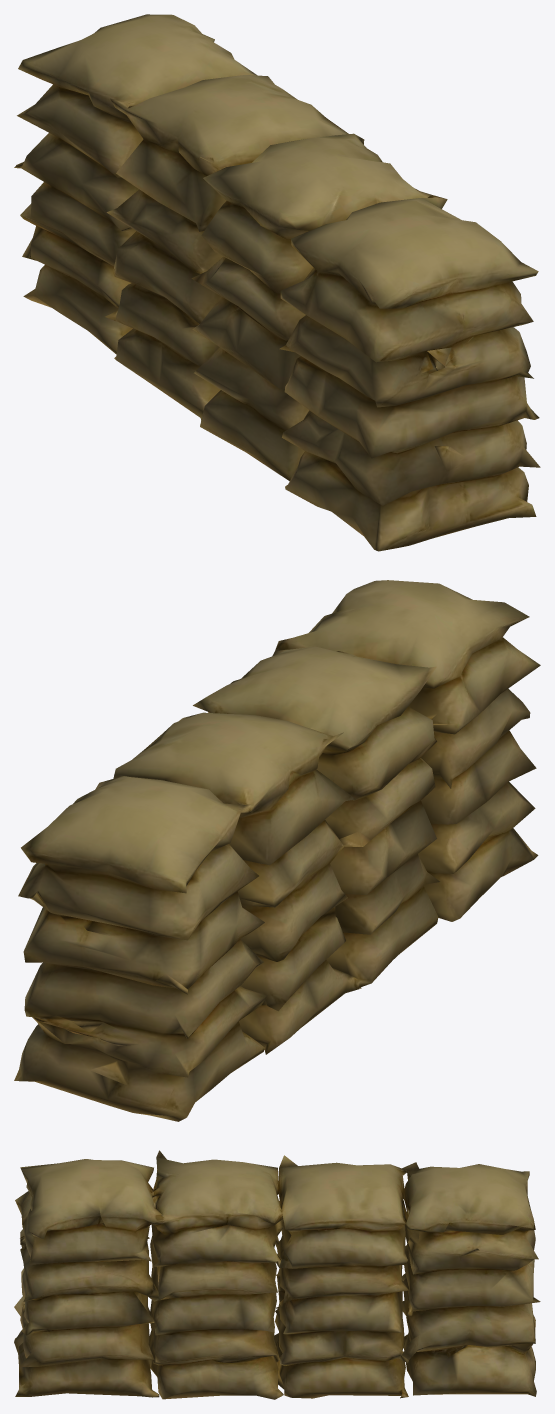
Rendered from sandbag_wall.glb.
3 views of the same model, one above another, from view 1: azimuth 30°, elevation 25°; view 2: azimuth 150°, elevation 25°; view 3: azimuth 270°, elevation 25° (orthographic). The views are drawn at different scales.
Visible parts, largest first — view 1: tripo_node_b4a4f47f-0e6d-40c4-89ed-e4fbd65311b7; view 2: tripo_node_b4a4f47f-0e6d-40c4-89ed-e4fbd65311b7; view 3: tripo_node_b4a4f47f-0e6d-40c4-89ed-e4fbd65311b7.
Part boxes in pixels (left/top/right/bottom): tripo_node_b4a4f47f-0e6d-40c4-89ed-e4fbd65311b7: left=14, top=14, right=540, bottom=551; tripo_node_b4a4f47f-0e6d-40c4-89ed-e4fbd65311b7: left=14, top=580, right=540, bottom=1121; tripo_node_b4a4f47f-0e6d-40c4-89ed-e4fbd65311b7: left=14, top=1150, right=540, bottom=1399.
Size of the model in its own units: 0.2975 by 0.4286 by 1.
1 material, 1 textured.
